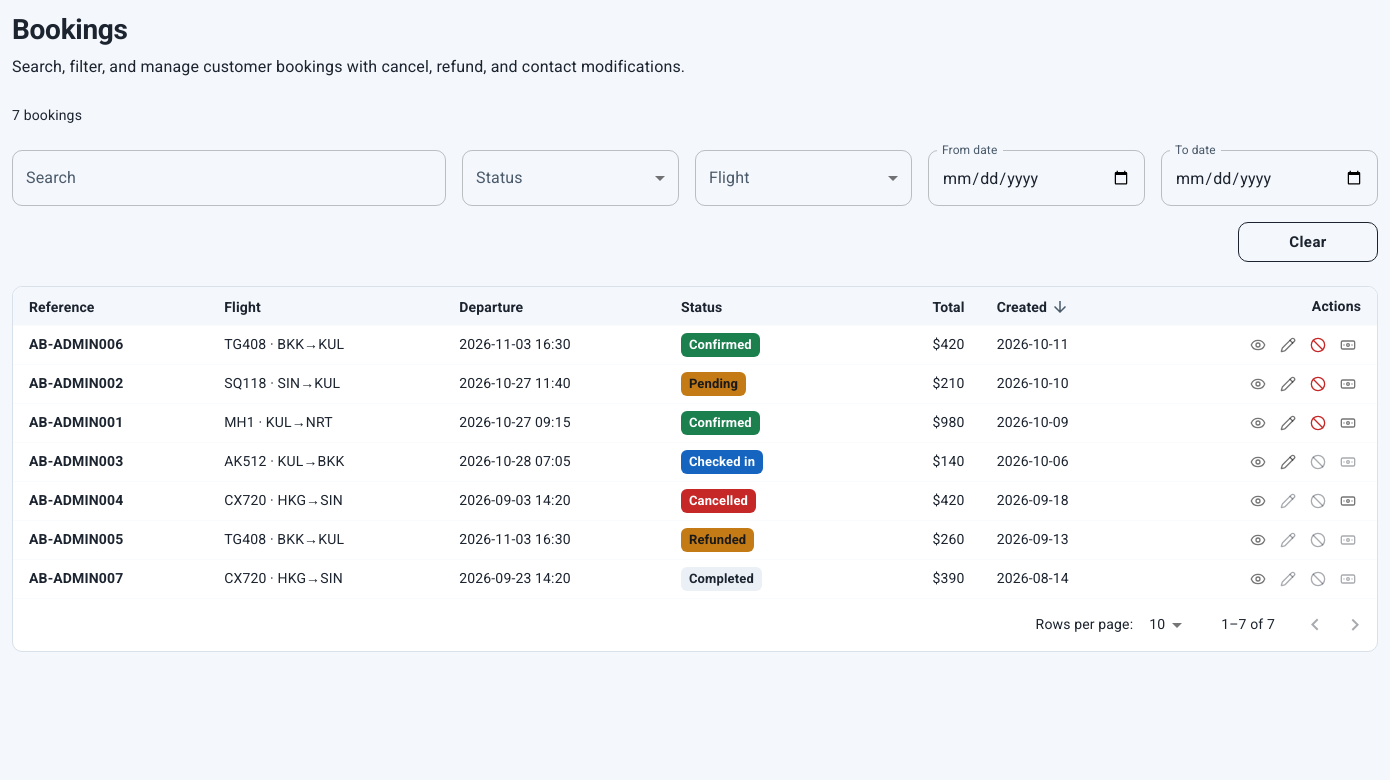
Test: AdminBookingsPage › lists bookings and filters by search
This screenshot has width=1390, height=780.
Expected: the heading "Bookings" is shown, [12,13,128,46]
Expected: the text "AB-ADMIN001" is shown, [29,414,123,430]
Type "AB-ADMIN001" into the field labelled "Search".
click(229, 178); type("AB-ADMIN001")  # box [12,150,446,206]
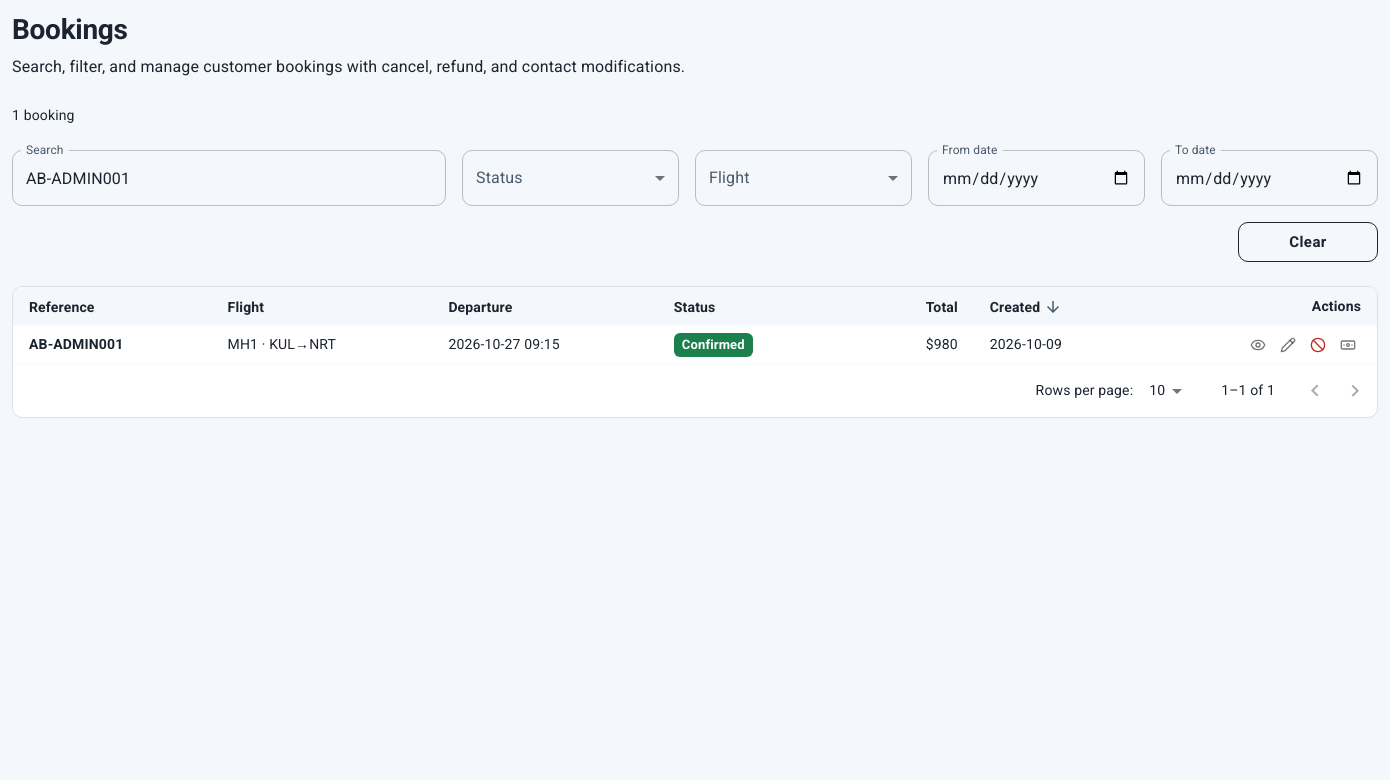
Expected: the text "AB-ADMIN001" is shown, [29,336,123,352]
Expected: the text "AB-ADMIN002" is gone
